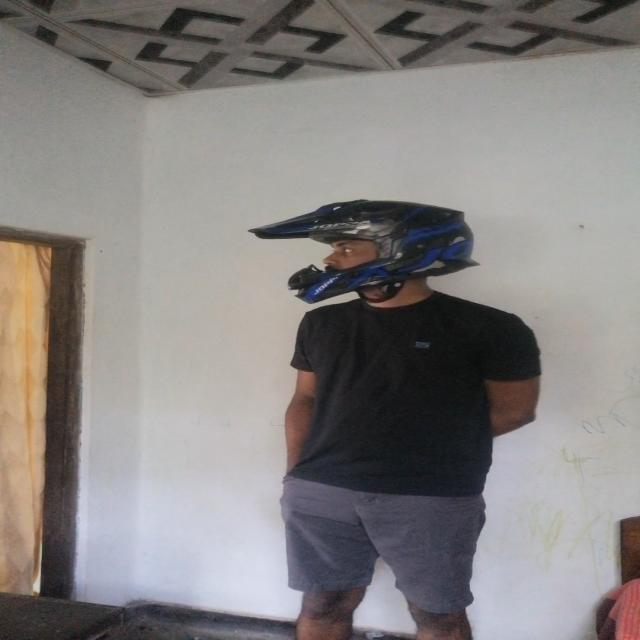Helmet_Wearer: (241, 190, 492, 329)
Person: (293, 196, 544, 640)
